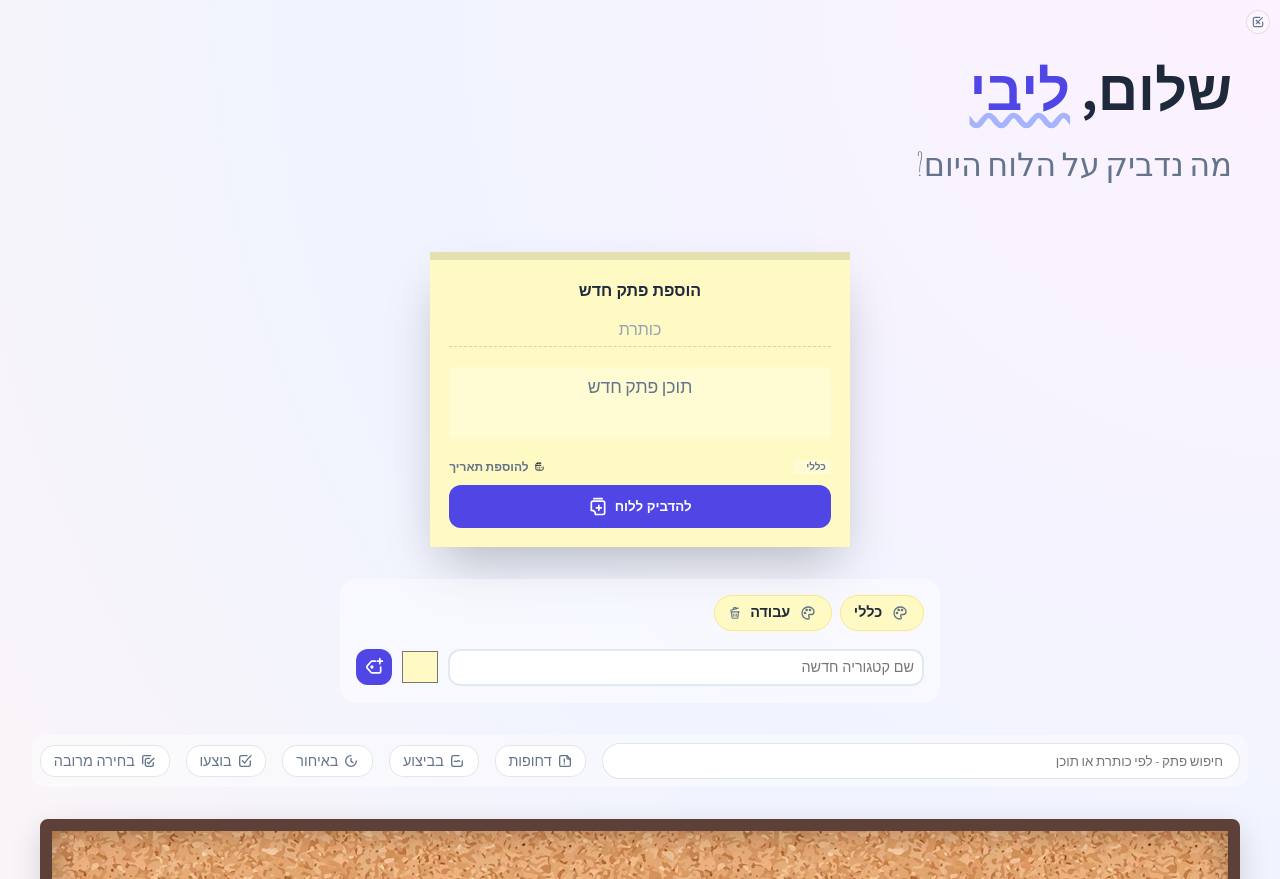
Test: filtering › shows only the notes of the selected category, and all notes again when it is selected twice
Click the button "עבודה" at (770, 613), box [750,602,790,624]
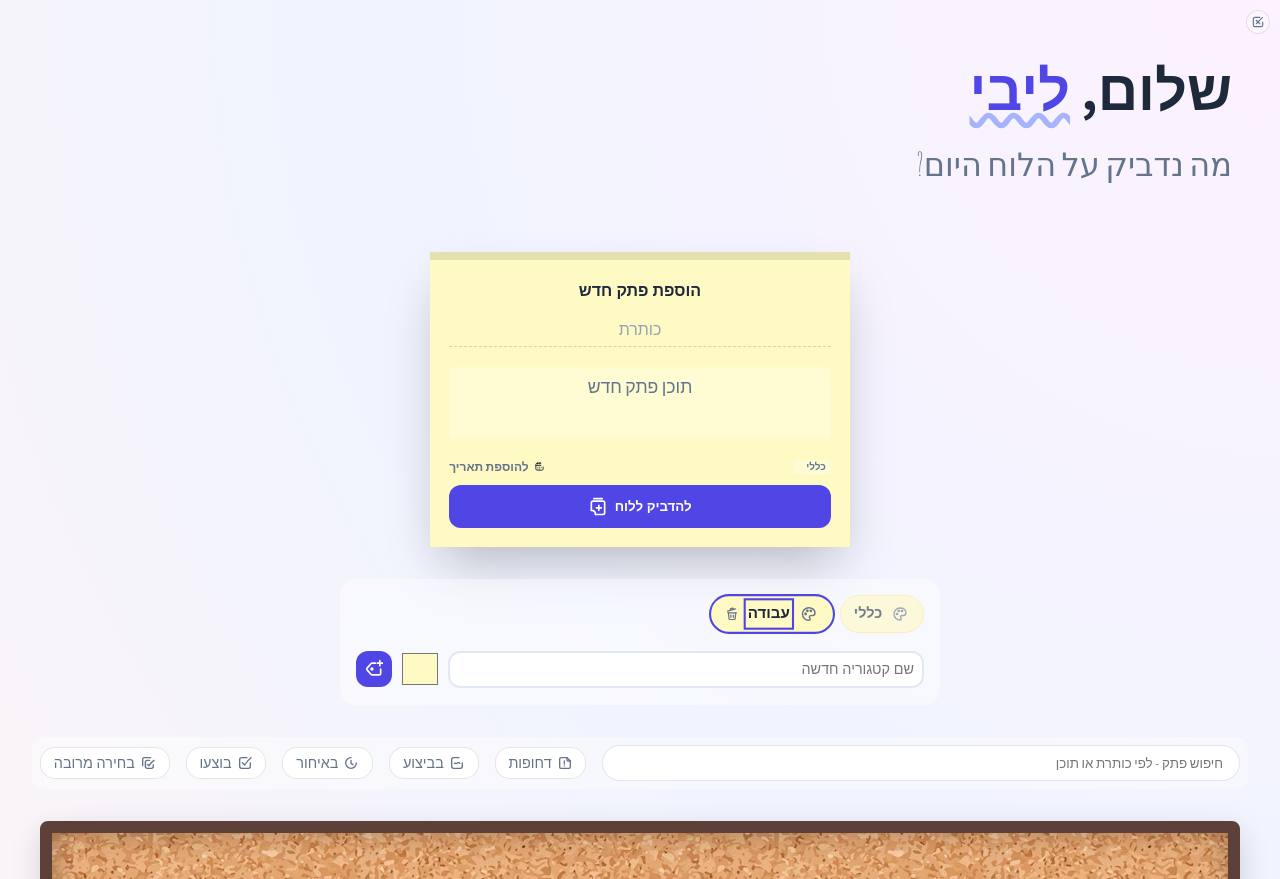
Click the button "עבודה" at (769, 614), box [748,603,790,626]
(page scrolled)
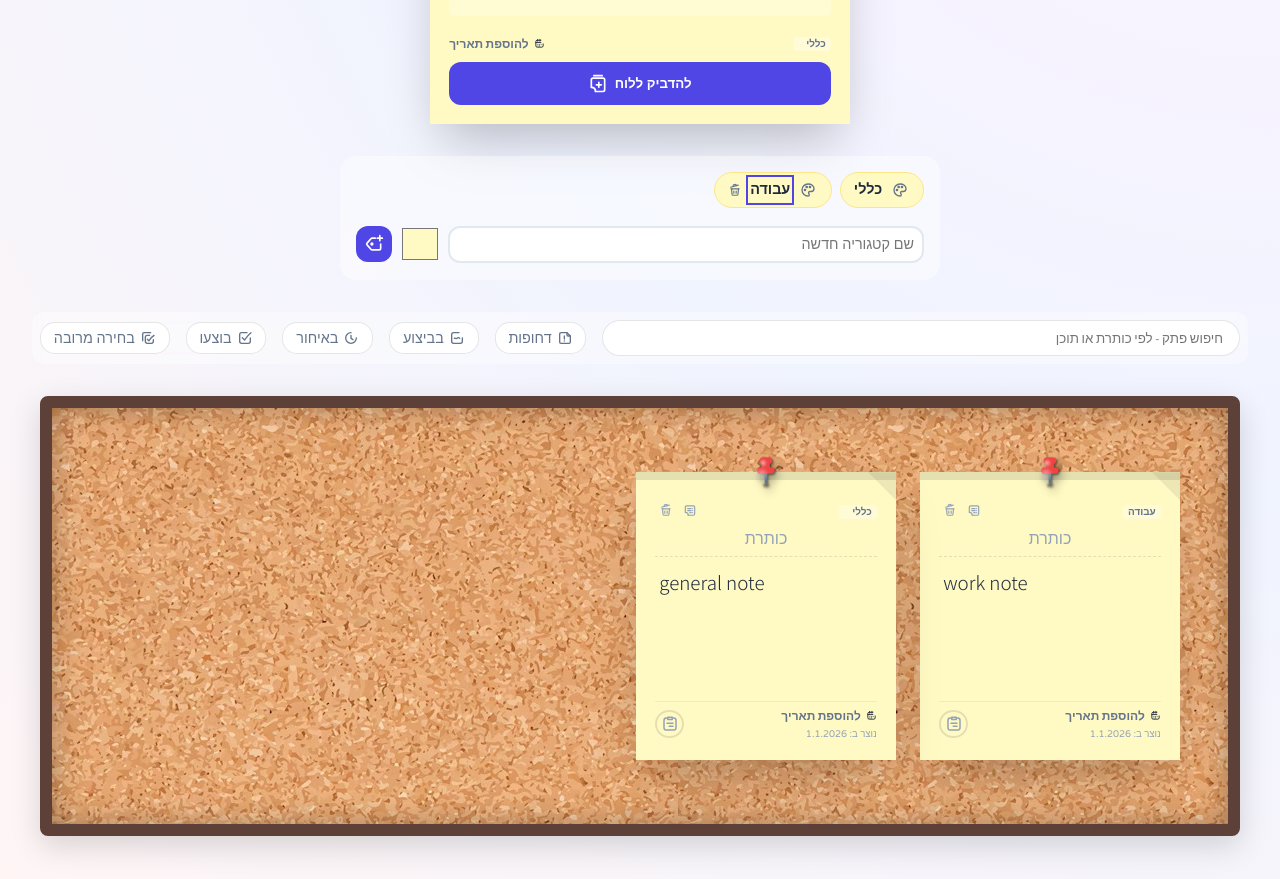
Expected: the field "work note" is shown, [943,570,1028,596]
Expected: the field "general note" is shown, [659,570,764,596]
